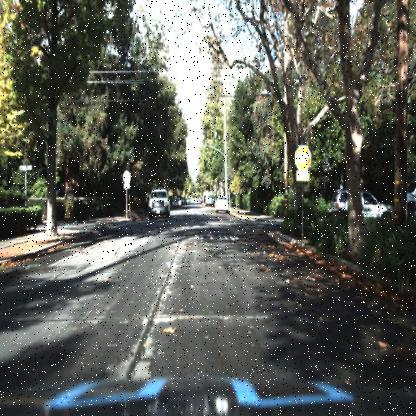car: (332, 180, 394, 222), (330, 188, 392, 218), (145, 184, 172, 221), (212, 193, 231, 216), (214, 197, 229, 214)
